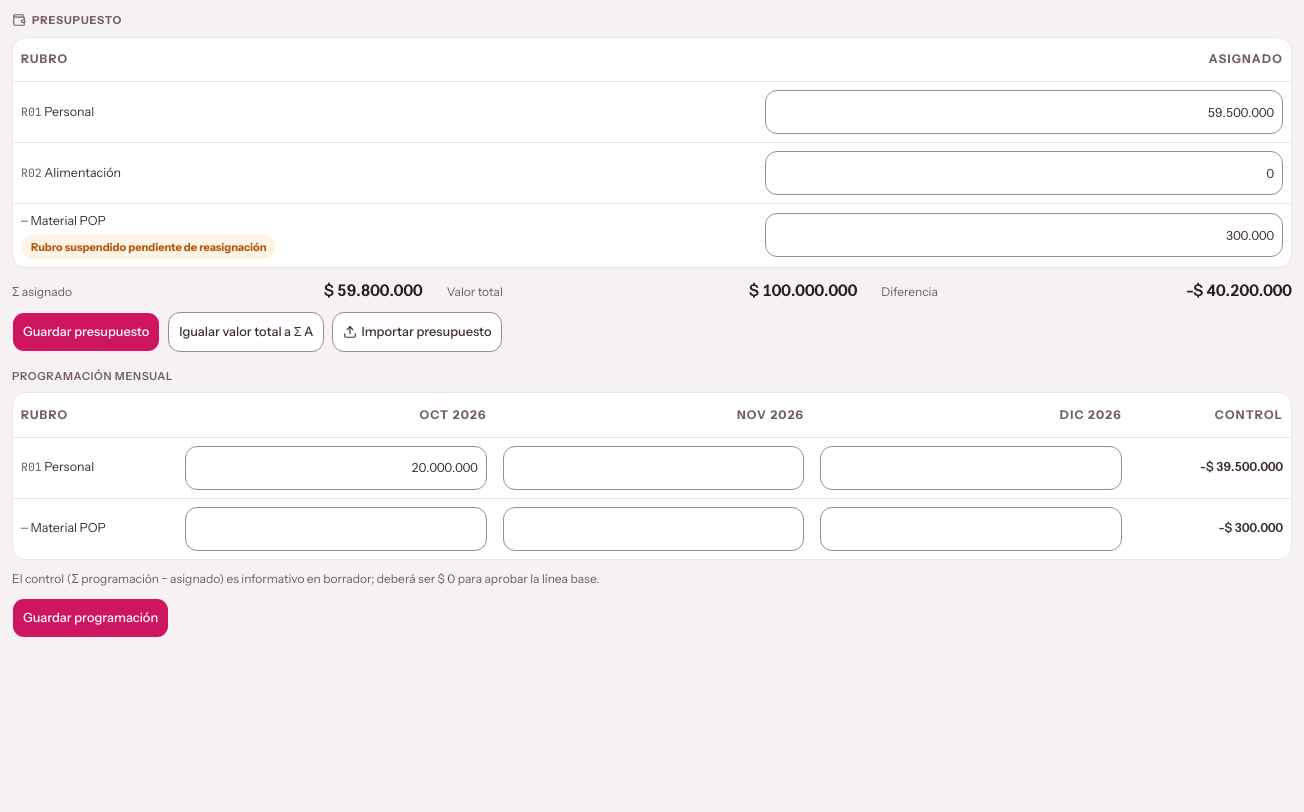
ProjectPresupuesto › never reinterprets the allocation 1.234.567{backspace}: it is rejected and not sent
Replace the text in the field named "Asignado R02" with "1.234.567" at (1024, 173), box 765,151 -> 1283,195
Then press Backspace
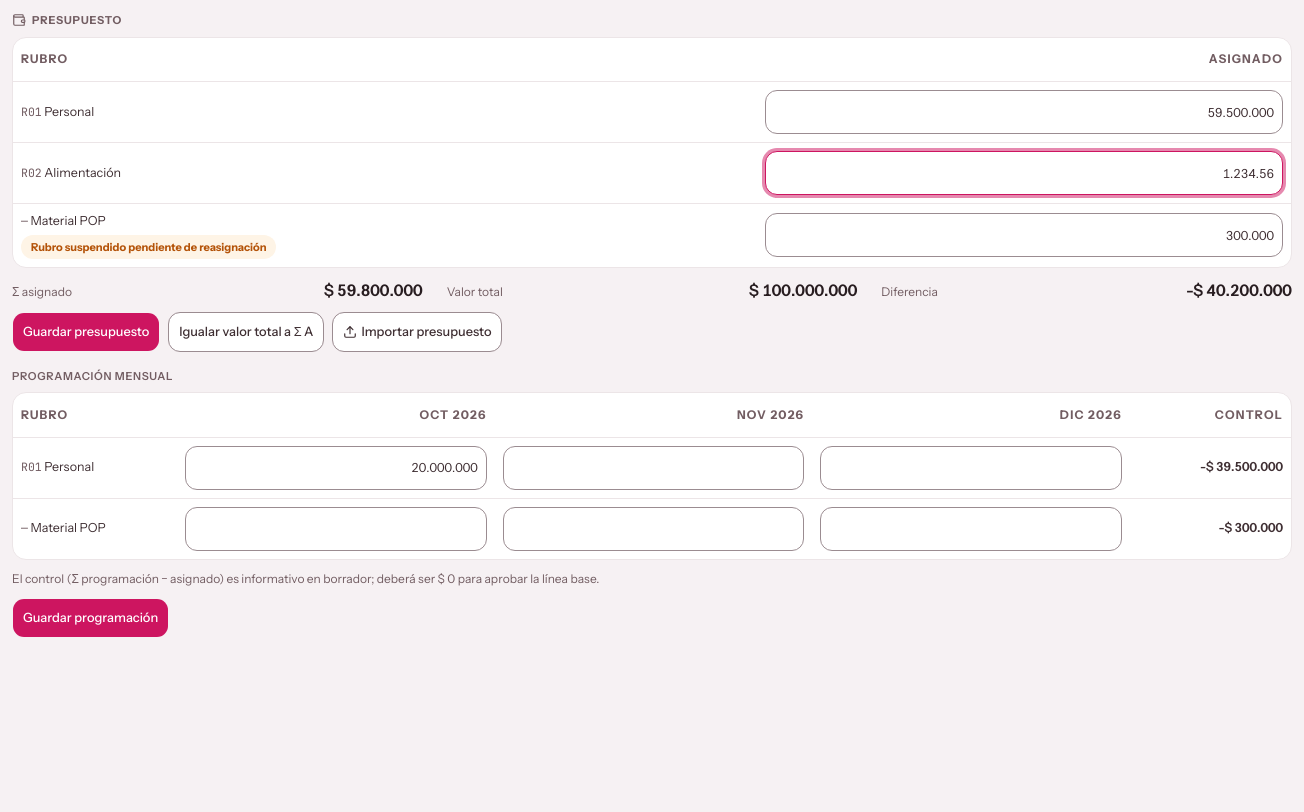
Press Tab
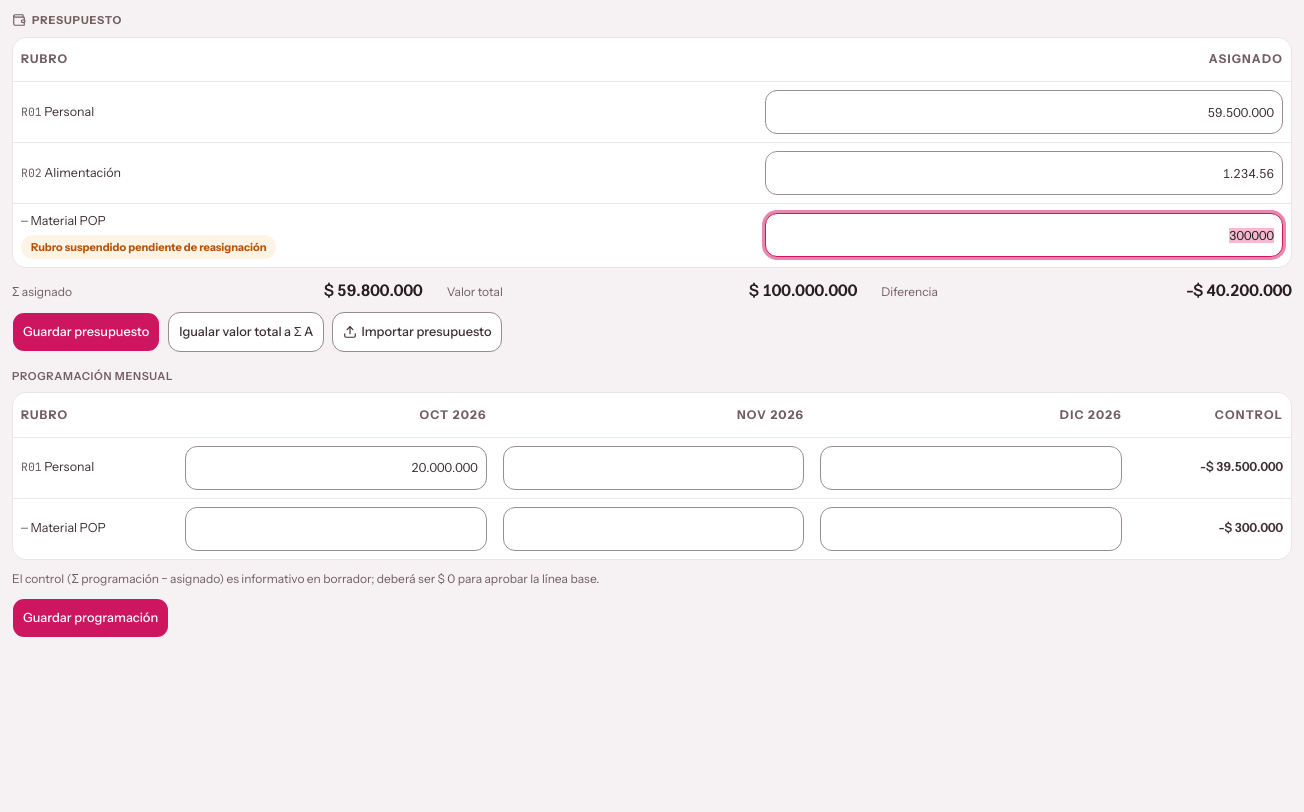
Expected: the field named "Asignado R02" holds "1.234.56", 765,151 -> 1283,195
Click the button "Guardar presupuesto".
click(86, 332)  # box 12,312 -> 160,352
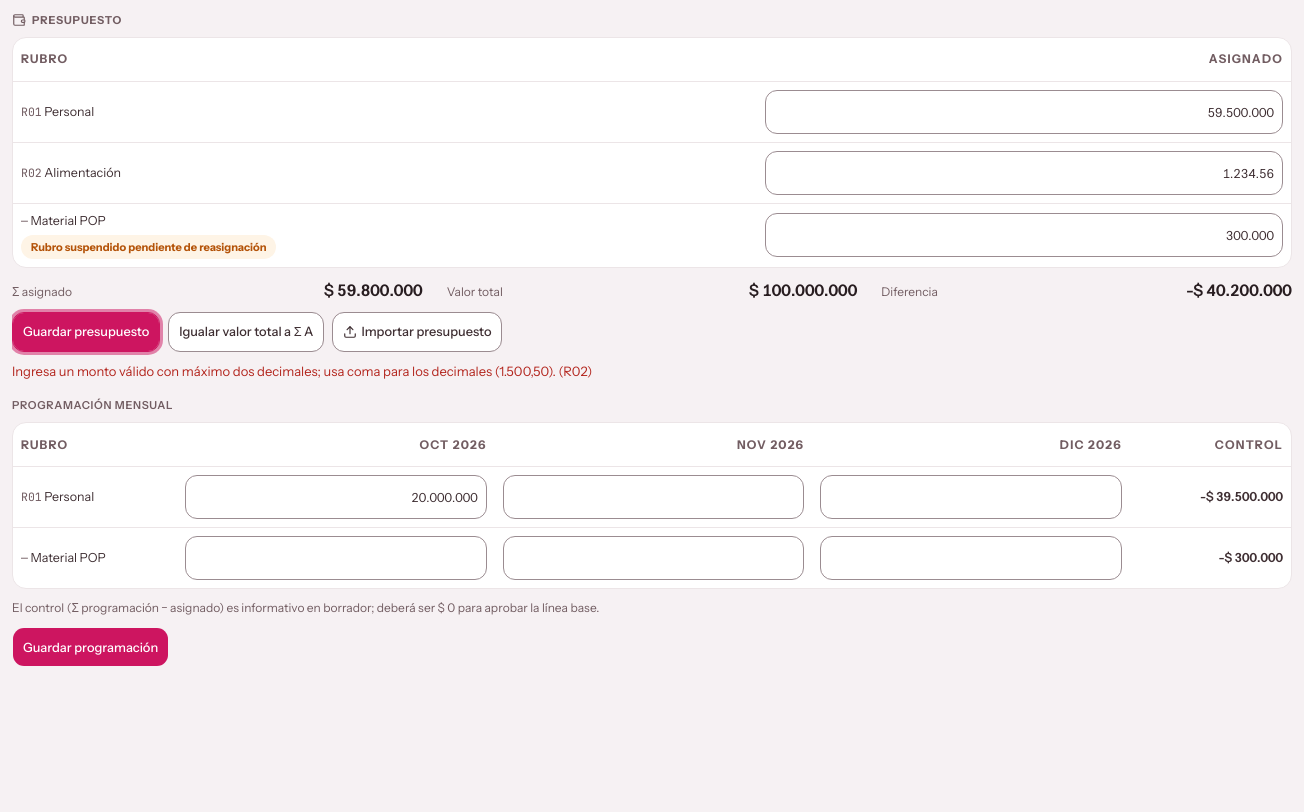
Expected: the message shows "usa coma", 12,363 -> 592,379
